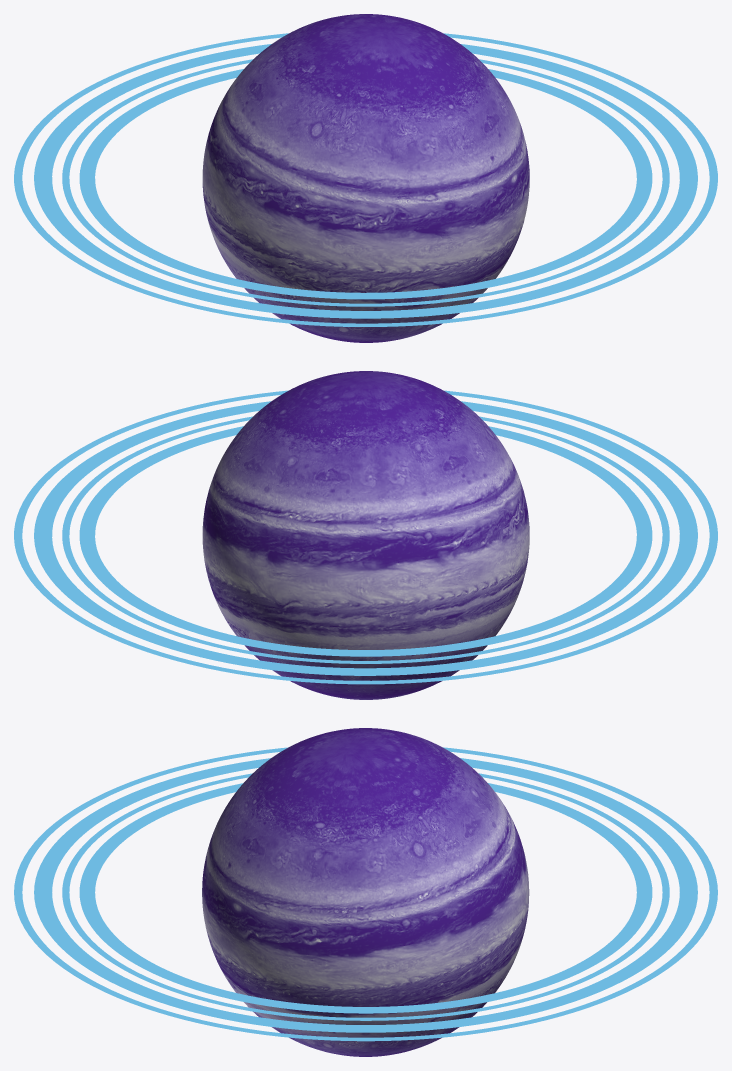
The model's file is saturn.glb.
3 views of the same model, one above another, from view 1: azimuth 30°, elevation 25°; view 2: azimuth 150°, elevation 25°; view 3: azimuth 270°, elevation 25° (orthographic).
Parts seen in each view (by area): view 1: Sphere.001, Sphere.006, Sphere.004, Sphere.005, Sphere.003; view 2: Sphere.001, Sphere.006, Sphere.004, Sphere.005, Sphere.003; view 3: Sphere.001, Sphere.006, Sphere.004, Sphere.005, Sphere.003.
Boxes of the visible parts, x1,y1,x2,y2 form: Sphere.001: (202,14,529,342); Sphere.006: (34,44,697,318); Sphere.004: (79,69,652,299); Sphere.005: (14,33,717,326); Sphere.003: (62,59,669,306); Sphere.001: (202,371,529,699); Sphere.006: (34,401,697,675); Sphere.004: (79,426,652,656); Sphere.005: (14,390,717,684); Sphere.003: (62,416,669,663); Sphere.001: (202,728,529,1056); Sphere.006: (34,758,697,1032); Sphere.004: (79,783,652,1013); Sphere.005: (14,747,717,1041); Sphere.003: (62,773,669,1020).
Bounding box in the file's own units: 4.25 × 2 × 4.25.
Materials: 2 (2 with a texture image).
